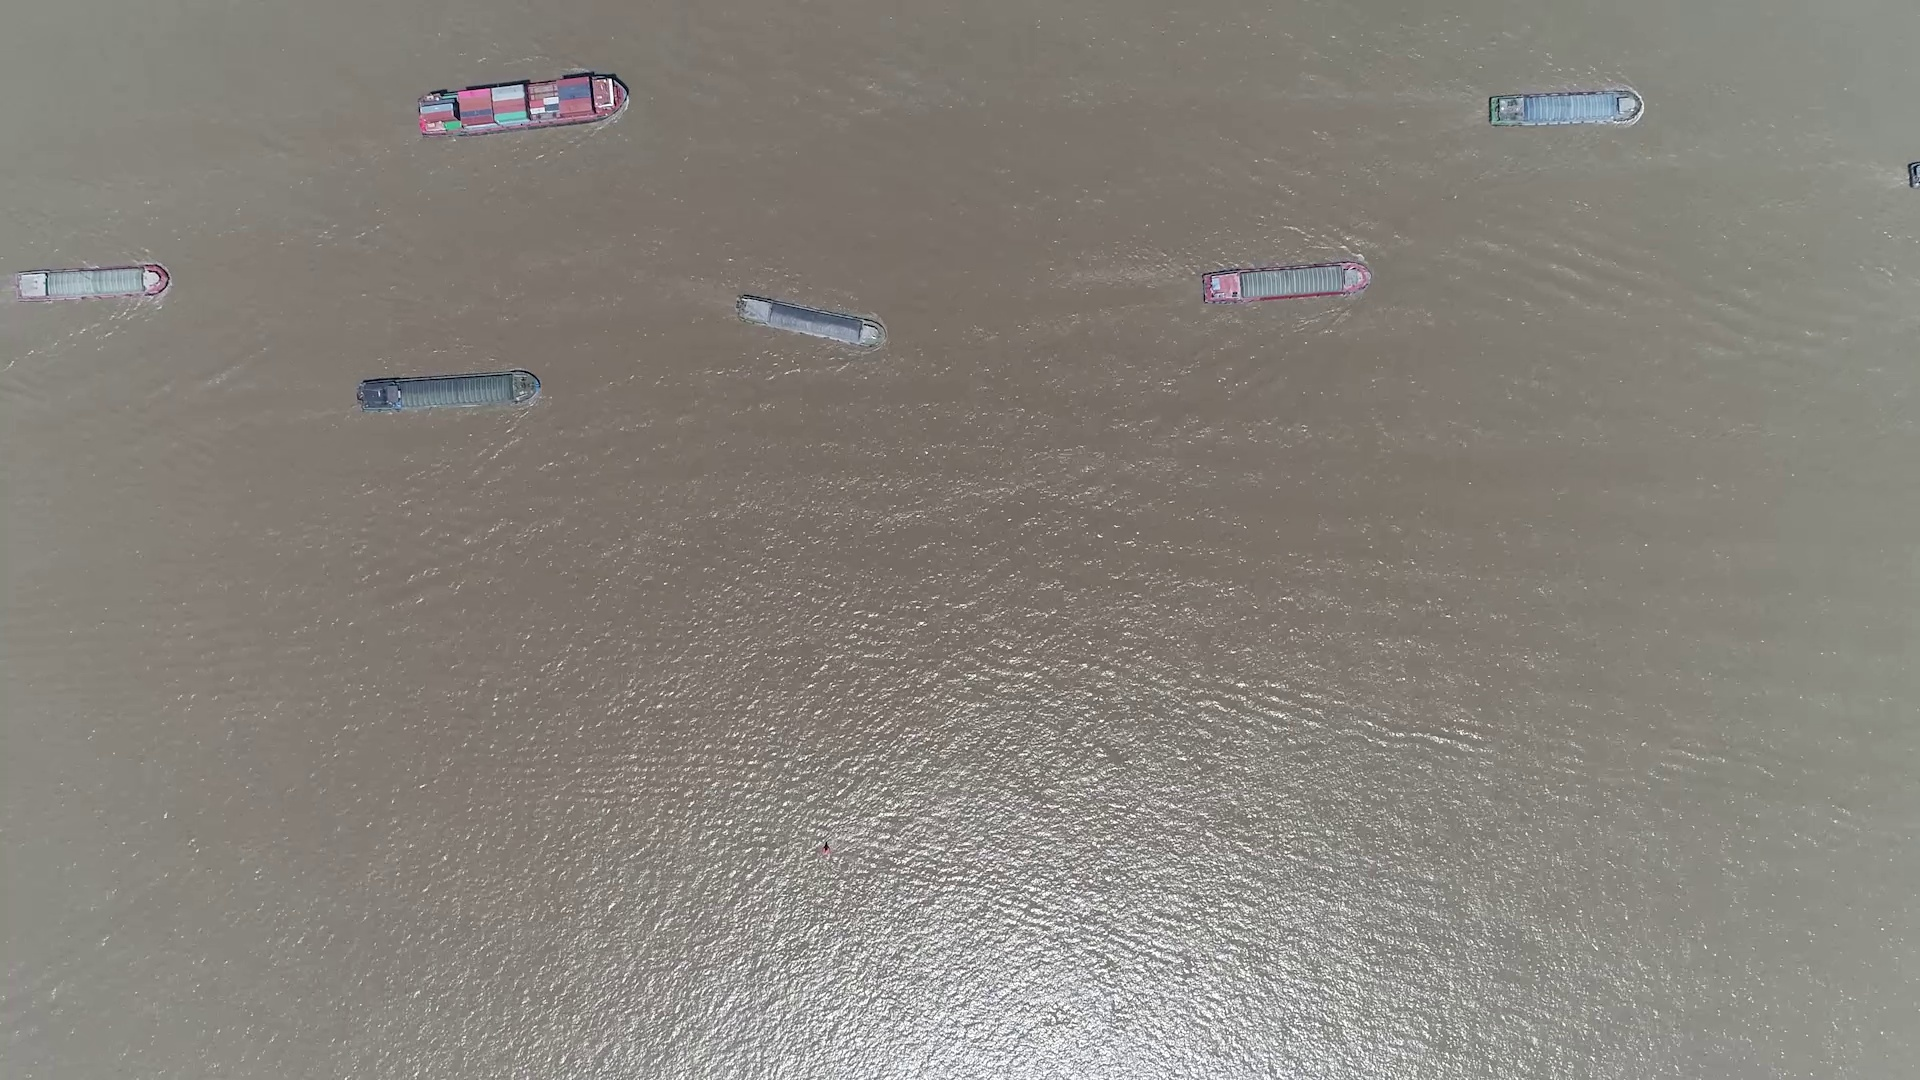ship: (418, 76, 626, 136), (735, 293, 884, 347), (1201, 260, 1374, 305), (357, 372, 539, 413), (13, 265, 167, 299), (1487, 92, 1640, 127)
